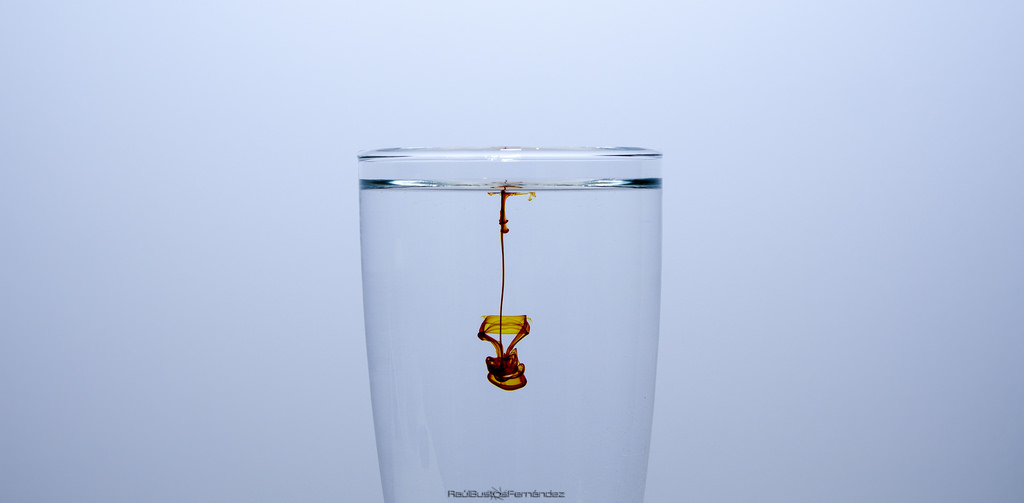glass of water: (333, 108, 740, 502)
